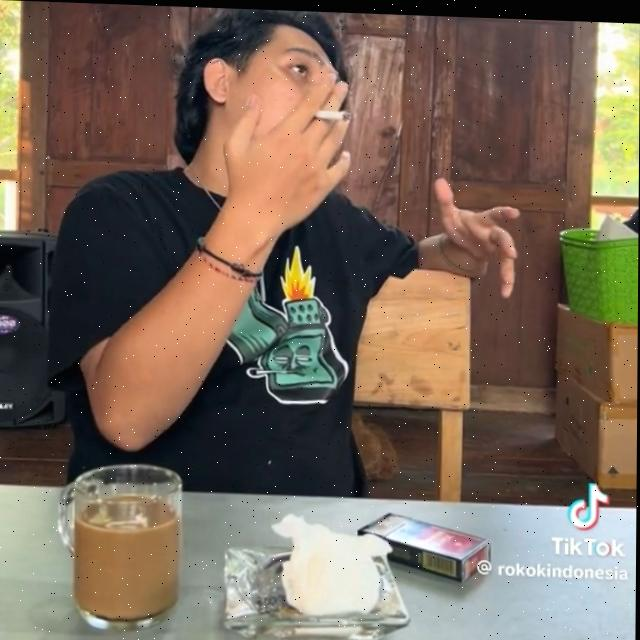cigarette: (316, 108, 353, 120)
